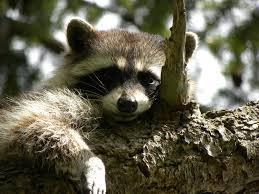raccoon: (0, 8, 210, 194)
